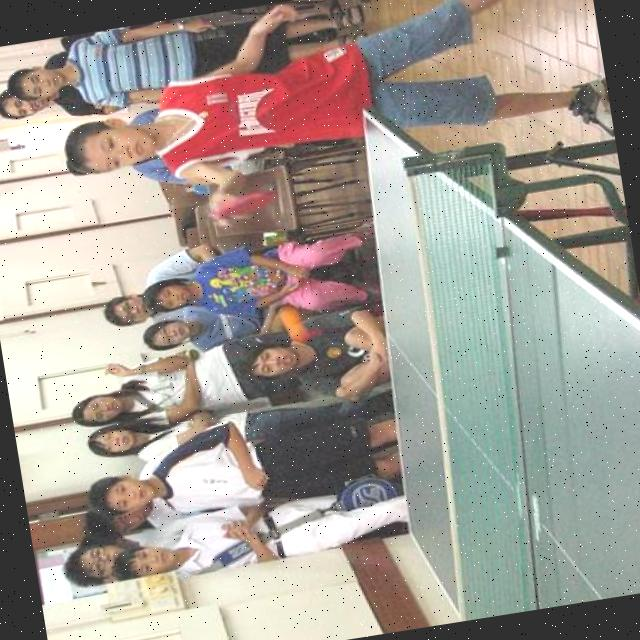ping-pong-ball: (278, 306, 308, 344)
